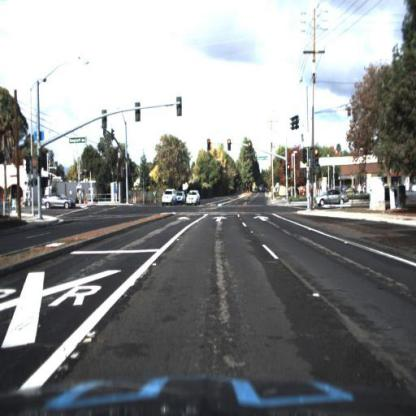biker: (154, 190, 158, 206)
car: (40, 189, 81, 214), (373, 180, 409, 207), (317, 189, 350, 208), (161, 189, 176, 207), (187, 190, 201, 209), (177, 192, 185, 205)
trafficLight-Red: (285, 160, 293, 178), (314, 148, 321, 168), (312, 149, 320, 165), (246, 141, 253, 158), (246, 139, 254, 151), (226, 138, 233, 150), (227, 138, 232, 154), (286, 162, 292, 174), (206, 139, 211, 152), (208, 139, 213, 152)
trafficLight-RedLeft: (122, 163, 129, 181)
